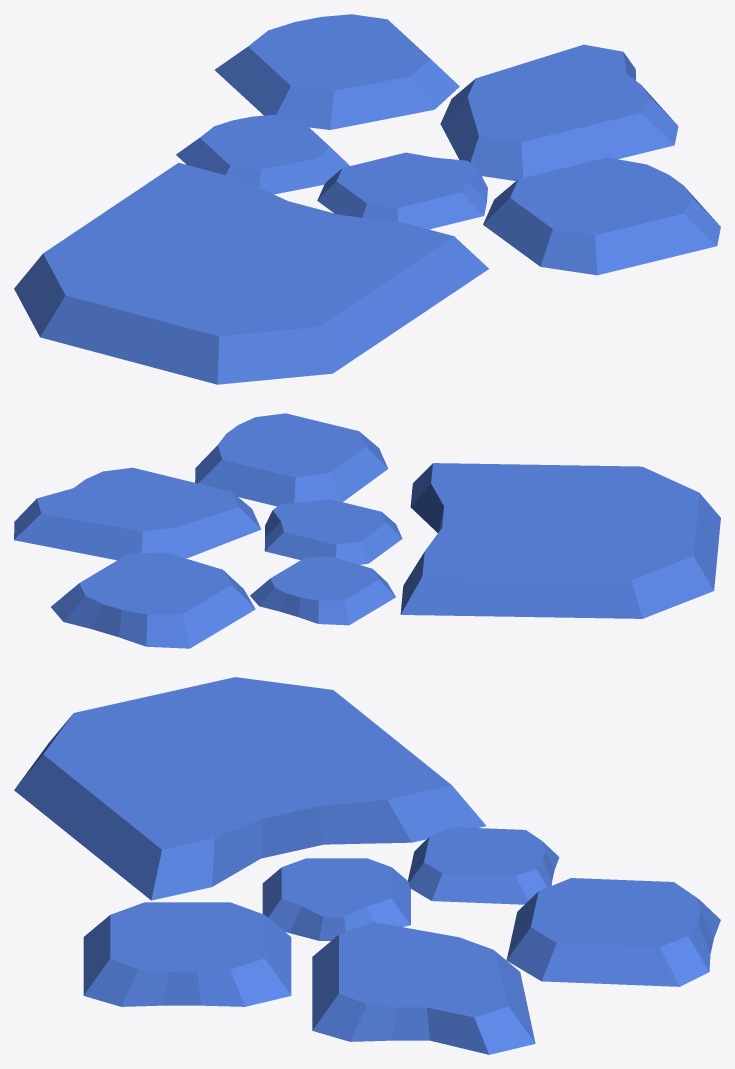
The model's file is SP_Stone01.fbx.
The picture shows the model from 3 angles, top to bottom: view 1: azimuth 30°, elevation 25°; view 2: azimuth 150°, elevation 25°; view 3: azimuth 270°, elevation 25°; orthographic projection. The views are drawn at different scales.
Parts seen in each view (by area): view 1: SP_Stone01; view 2: SP_Stone01; view 3: SP_Stone01.
Boxes of the visible parts, x1,y1,x2,y2 form: SP_Stone01: [14, 14, 720, 384]; SP_Stone01: [14, 413, 720, 648]; SP_Stone01: [14, 677, 720, 1054].
Size of the model in its own units: 37.63 by 1.79 by 31.75.
Materials: 1 (1 with a texture image).
